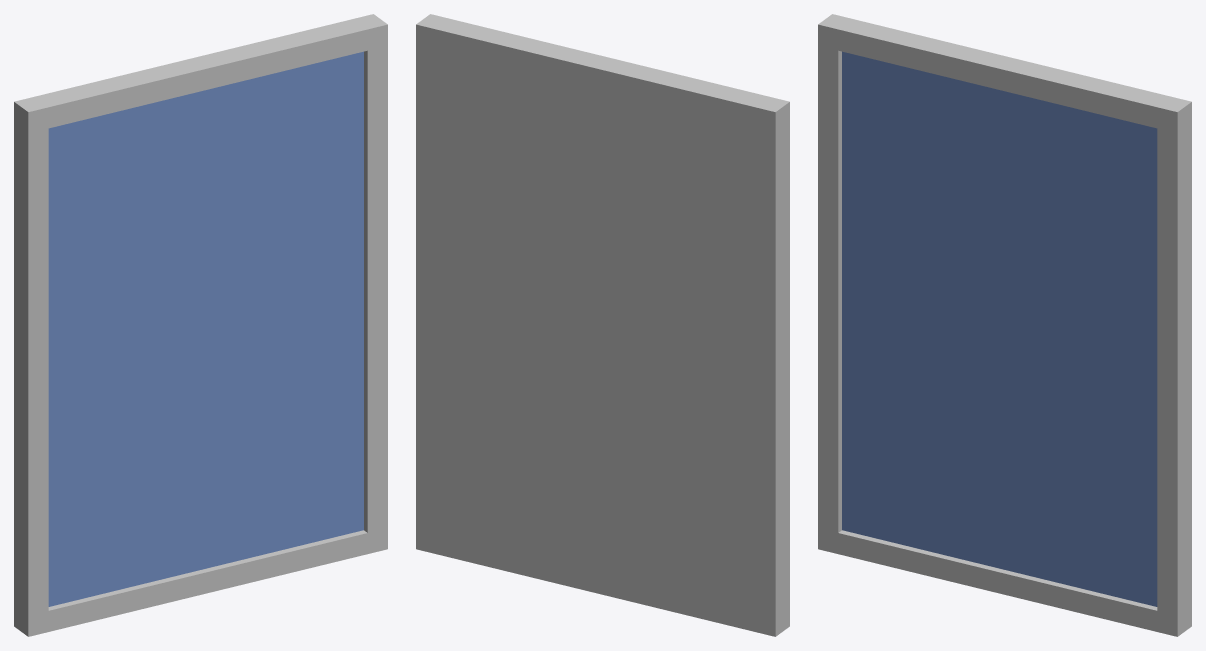
The model's file is Painting_02.fbx.
3 views of the same model, side by side, from view 1: azimuth 30°, elevation 25°; view 2: azimuth 150°, elevation 25°; view 3: azimuth 330°, elevation 25° (orthographic).
Visible parts, largest first — view 1: Painting_02; view 2: Painting_02; view 3: Painting_02.
Boxes of the visible parts, bbox=[...] form: Painting_02: bbox=[14, 14, 387, 636]; Painting_02: bbox=[416, 14, 789, 636]; Painting_02: bbox=[818, 14, 1191, 636].
Bounding box in the file's own units: 45.37 × 63.27 × 3.14.
